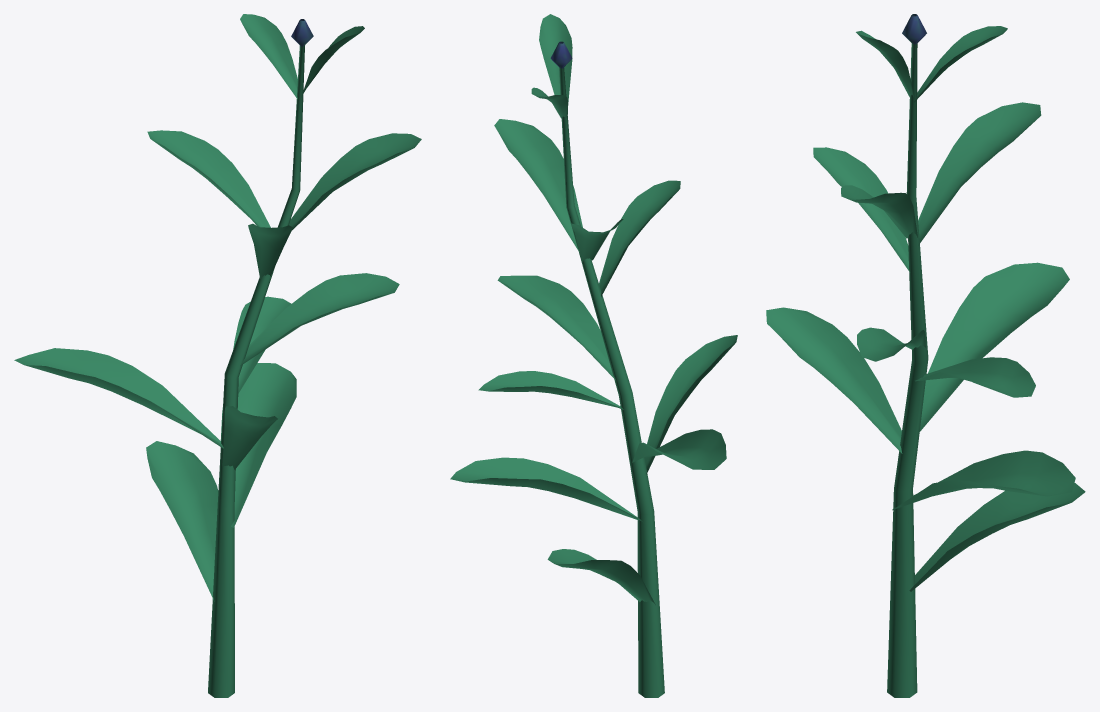
Rendered from Bush1.fbx.
The picture shows the model from 3 angles, left to right: view 1: azimuth 30°, elevation 25°; view 2: azimuth 150°, elevation 25°; view 3: azimuth 270°, elevation 25°; orthographic projection. The views are drawn at different scales.
Visible parts, largest first — view 1: Circle.006; view 2: Circle.006; view 3: Circle.006.
Part boxes in pixels (box(x1,y1,x2,y2)): Circle.006: box(14, 14, 421, 697); Circle.006: box(450, 14, 737, 697); Circle.006: box(766, 14, 1085, 697).
Size of the model in its own units: 1.03 by 2.03 by 0.8114.
